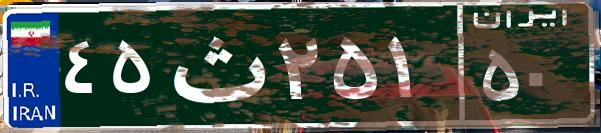0: (525, 38, 570, 115)
1: (385, 28, 445, 110)
2: (273, 28, 330, 110)
4: (57, 26, 110, 107)
5: (330, 28, 385, 110), (475, 38, 525, 113), (110, 28, 158, 105)
ث: (158, 15, 273, 115)
